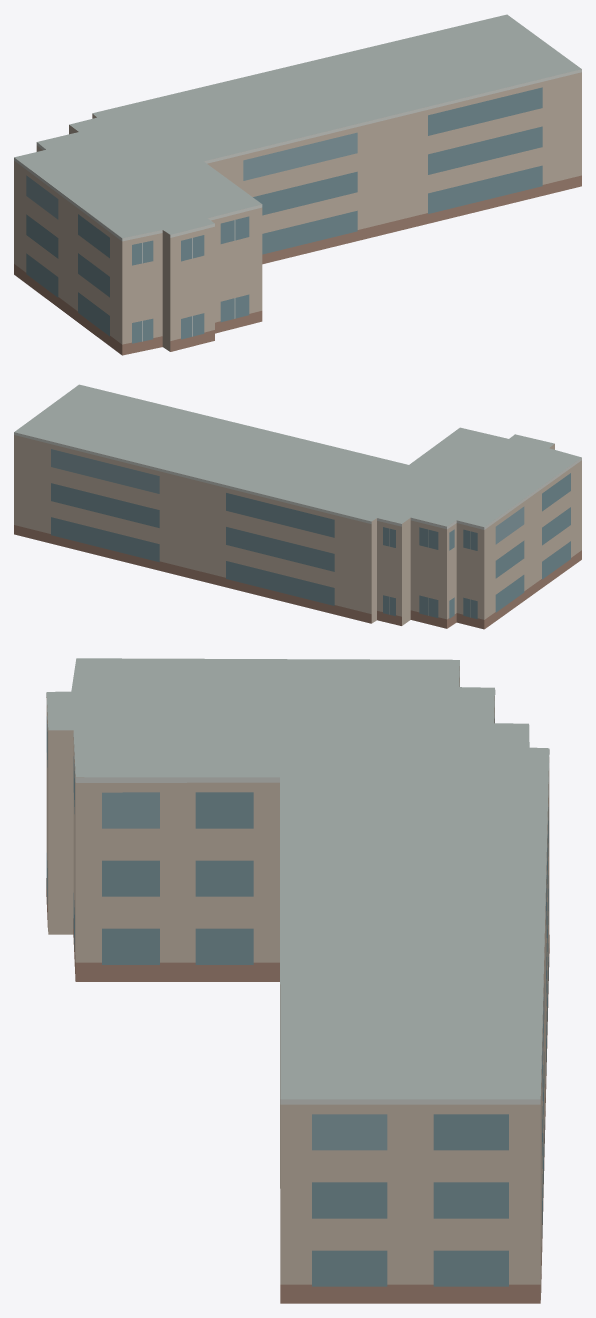
Rendered from survey-upis-32644583.glb.
3 views of the same model, one above another, from view 1: azimuth 30°, elevation 25°; view 2: azimuth 150°, elevation 25°; view 3: azimuth 270°, elevation 25° (orthographic). The views are drawn at different scales.
Parts seen in each view (by area): view 1: survey-upis-32644583.tmp; view 2: survey-upis-32644583.tmp; view 3: survey-upis-32644583.tmp.
Boxes of the visible parts, box(x1,y1,x2,y2) form: survey-upis-32644583.tmp: box(14, 14, 581, 355); survey-upis-32644583.tmp: box(14, 384, 581, 629); survey-upis-32644583.tmp: box(46, 658, 549, 1303).
Bounding box in the file's own units: 42.34 × 9.15 × 20.41.
